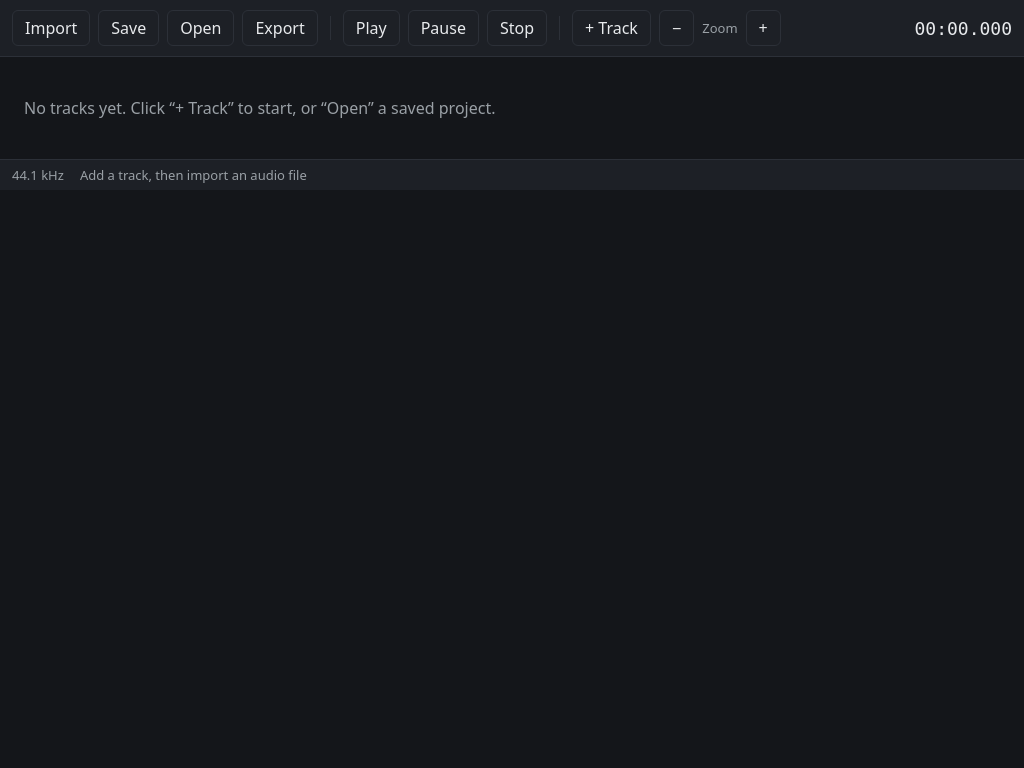
Test: App › shows a controller error as a message that names the file (A3 2.6, 4.5)
What coordinates should you click on to do the following:
click the button "+ Track"
I would click on:
 (611, 28)
Its box is top-left (572, 10), bottom-right (651, 46).
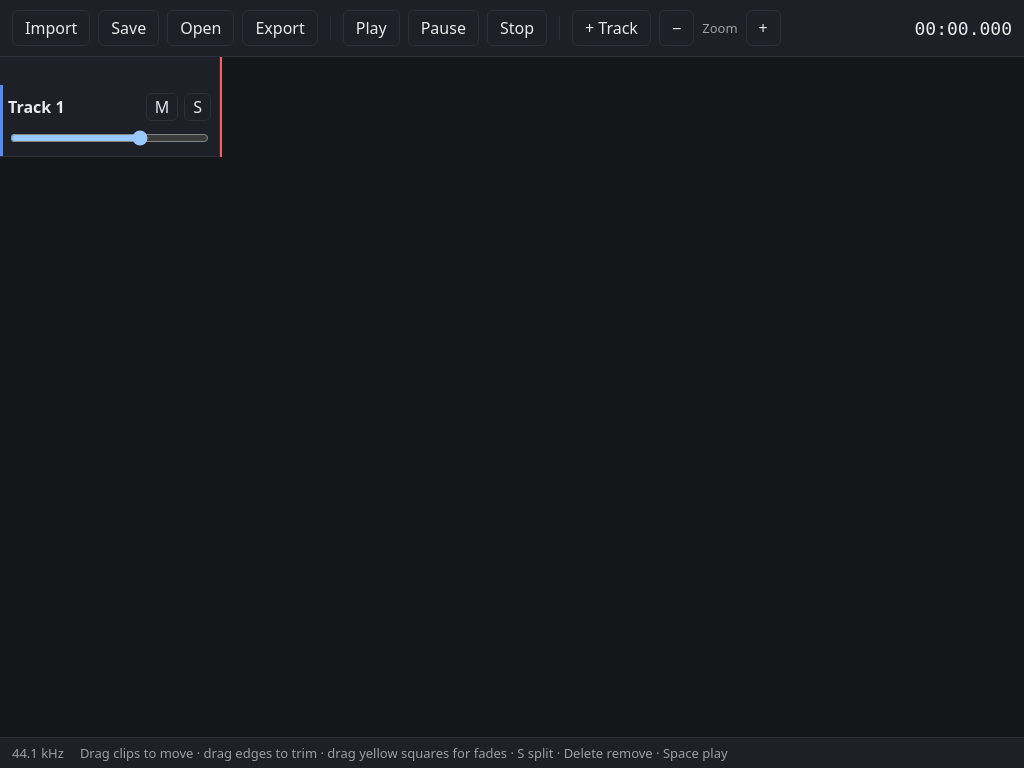
What coordinates should you click on to do the following:
click the button "Import"
I would click on:
 (51, 28)
Its box is top-left (12, 10), bottom-right (90, 46).
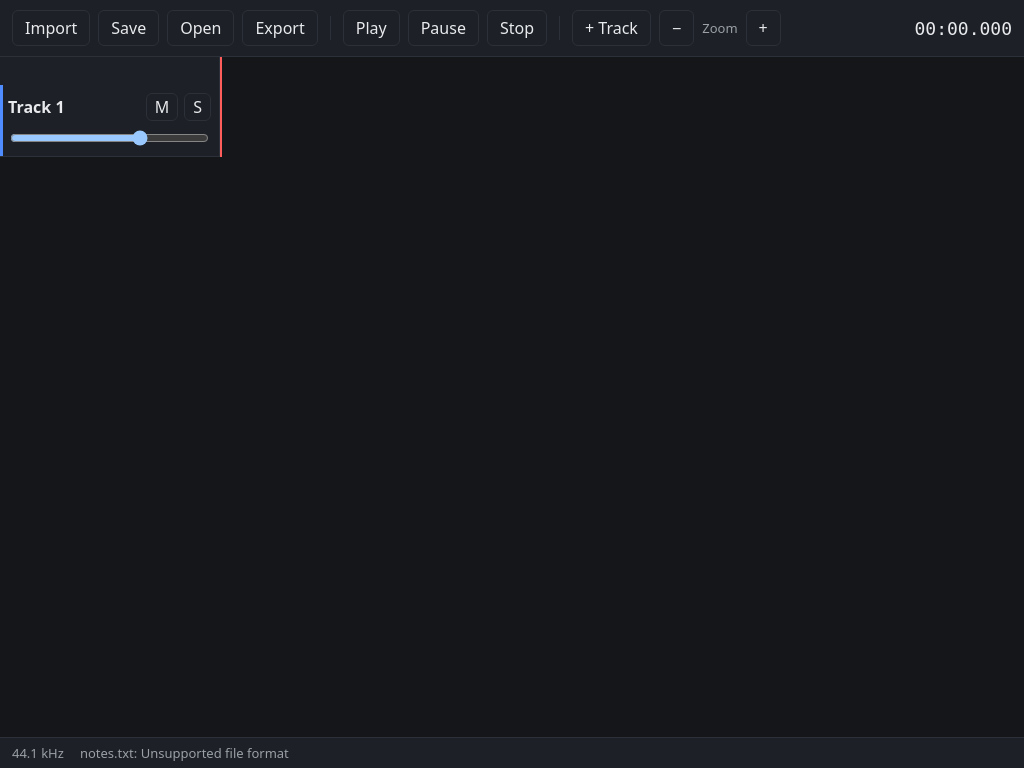
Now the text "notes.txt: Unsupported file format" is shown, box top-left (80, 744), bottom-right (289, 762)
